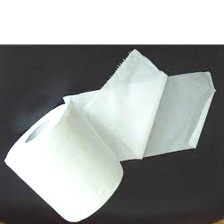tissue: (0, 45, 222, 224)
